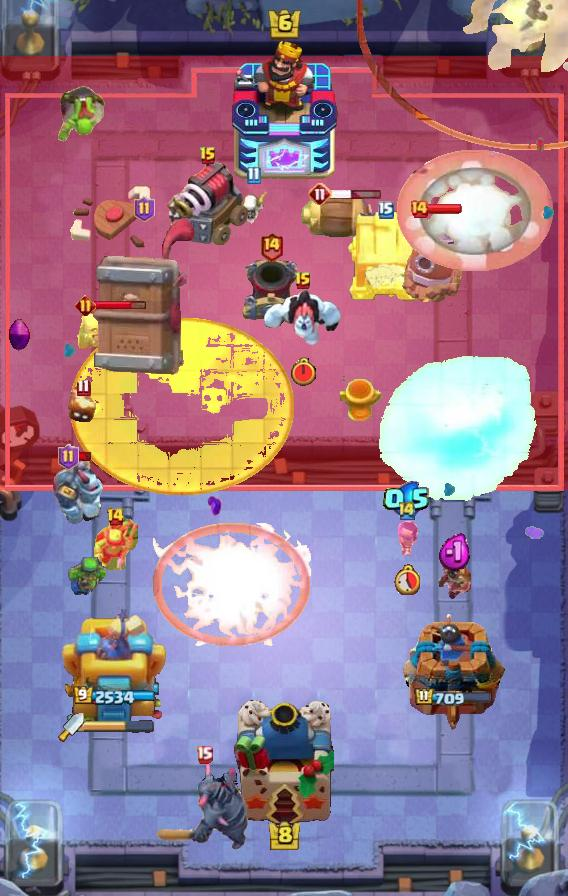bar: (62, 601, 166, 731)
bar-level: (57, 83, 107, 143)
barbarian-evolution: (153, 523, 311, 646)
bat-evolution: (77, 308, 119, 352)
bomb: (346, 208, 426, 302)
bomber: (68, 386, 98, 424)
bomber-evolution: (439, 551, 471, 601)
dart-goblin: (92, 217, 196, 375)
electro-spirit: (383, 482, 431, 519), (438, 532, 474, 571)
elixir: (290, 357, 317, 387), (394, 564, 420, 595)
elixir-golem-small: (51, 455, 111, 525)
emote: (94, 301, 147, 312), (330, 189, 382, 200), (427, 203, 463, 215), (75, 451, 92, 462)
giant-snowball: (92, 519, 138, 571), (64, 557, 106, 597)
goblin: (393, 520, 423, 556)
golem: (165, 157, 251, 249)
golemite: (156, 759, 252, 851)
heal-spirit: (237, 187, 271, 229)
king-tower: (230, 41, 338, 181), (234, 700, 334, 826)
king-tower-bar: (84, 720, 154, 734)
magic-archer: (402, 209, 462, 303)
mega-knight: (374, 355, 540, 505)
musketeer: (240, 256, 302, 324)
phoenix-egg: (70, 317, 294, 495)
queen-tower: (401, 613, 505, 731)
rage: (262, 290, 344, 348)
royal-ghost: (356, 0, 567, 150)
selected: (414, 687, 494, 709), (72, 686, 155, 707)
skeleton-king-skill: (8, 318, 30, 352)
text: (259, 231, 284, 262), (308, 182, 332, 206), (133, 196, 154, 222), (57, 444, 78, 470), (75, 295, 96, 317), (397, 499, 417, 520), (409, 199, 429, 219), (106, 507, 125, 527), (199, 146, 217, 166), (294, 271, 312, 291), (195, 745, 213, 763), (378, 201, 394, 219), (76, 379, 91, 398), (247, 167, 261, 186)
the-log: (300, 191, 376, 241)
wall-breaker: (398, 148, 554, 272)
